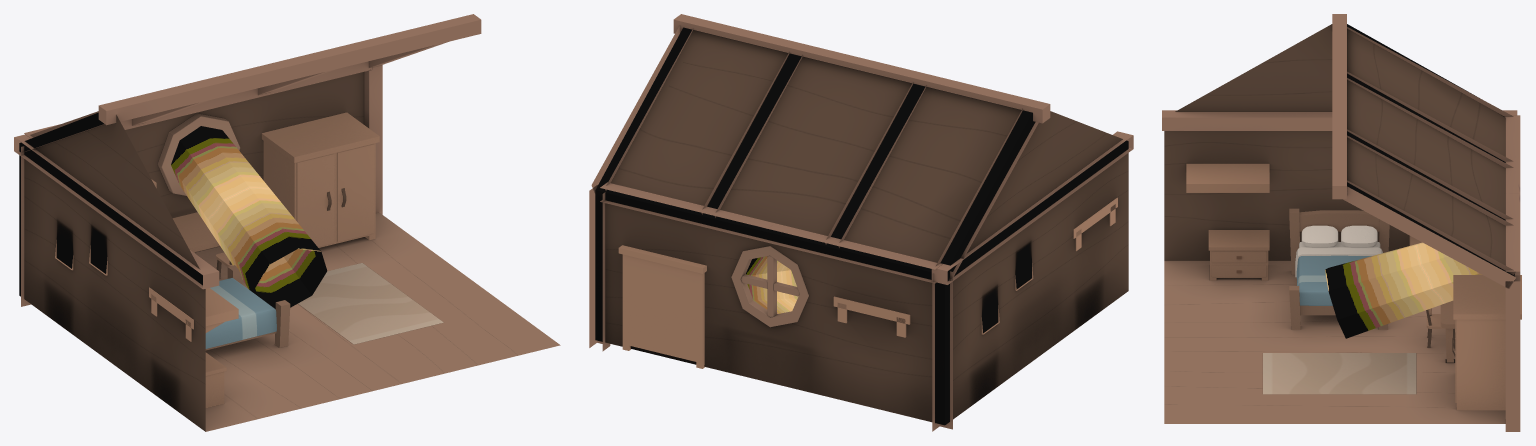
Rendered from GeneralWord.glb.
3 views of the same model, side by side, from view 1: azimuth 30°, elevation 25°; view 2: azimuth 150°, elevation 25°; view 3: azimuth 270°, elevation 25° (orthographic). The views are drawn at different scales.
Parts seen in each view (by area): view 1: Room, Room.001, Cube.018, Plane.005, Bed, Cube.011, Cube.016, Cube.012; view 2: Room, Cube.018, Room.001, Cube.017, Cube.011; view 3: Room, Room.001, Bed, Cube.018, Plane.005, Cube.012, Cube.011, Cube.016, Cube.019.
Part boxes in pixels (<box>): Room: <box>14,14,560,431</box>; Room.001: <box>171,126,327,308</box>; Cube.018: <box>261,112,379,247</box>; Plane.005: <box>298,263,443,344</box>; Bed: <box>205,265,290,350</box>; Cube.011: <box>149,287,238,341</box>; Cube.016: <box>172,212,219,253</box>; Cube.012: <box>205,352,226,408</box>; Room: <box>589,14,1133,431</box>; Cube.018: <box>618,245,706,368</box>; Room.001: <box>746,256,798,313</box>; Cube.017: <box>833,296,910,337</box>; Cube.011: <box>1073,197,1117,251</box>; Room: <box>1162,14,1520,431</box>; Room.001: <box>1325,242,1482,338</box>; Bed: <box>1289,208,1389,329</box>; Cube.018: <box>1452,275,1521,410</box>; Plane.005: <box>1263,353,1416,394</box>; Cube.012: <box>1208,230,1422,280</box>; Cube.011: <box>1186,163,1269,192</box>; Cube.016: <box>1440,300,1455,362</box>; Cube.019: <box>1426,308,1455,347</box>.
Bounding box in the file's own units: 7.75 × 5.23 × 6.85.
Materials: 11 (10 with a texture image).
